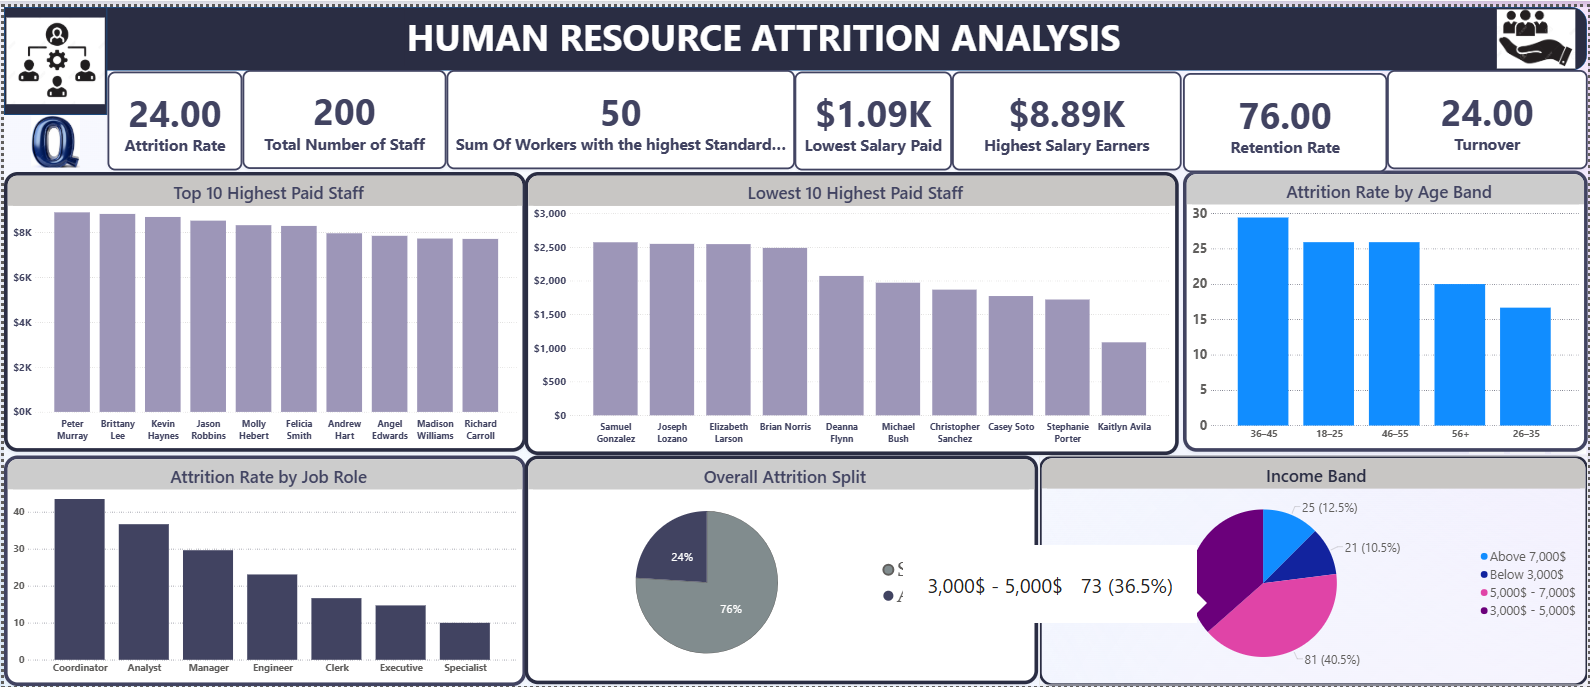

What the dashboard file says about the page in this screenshot:
{"tool":"powerbi","page":{"name":"Key Performance Metrics","canvas":[3500,1500],"ordinal":0},"visuals":[{"type":"shape","box":[173.9,0,3324.7,140.8],"z":0},{"type":"shape","box":[0,0,228,238.6],"z":1000},{"type":"image","box":[0,0,228,238.6],"z":2000},{"type":"textbox","box":[886,8.3,2128.2,124.2],"z":3000},{"type":"image","box":[3270.9,0,227.7,140.8],"z":4000},{"type":"card","fields":{"Values":["Sheet1.Lowest Salary Paid"]},"box":[1746.4,142.5,347.9,218.7],"z":5000},{"type":"card","fields":{"Values":["Sheet1.Highest Salary Paid"]},"box":[2094.3,142.5,507,218.7],"z":6000},{"type":"columnChart","title":"Attrition Rate by Job Role","fields":{"Category":["Sheet1.Job Role"],"Series":["Sheet1.Job Role"],"Y":["Sheet1.Attrition Rate"]},"box":[0,981.5,1154.5,519],"z":9000},{"type":"pieChart","title":"Overall Attrition Split","fields":{"Y":["Sheet1.Attrition_No_Count","Sheet1.Attrition_Yes_Count"]},"box":[1151,989.6,1134.5,505.1],"z":10000},{"type":"pieChart","title":"Income Band","fields":{"Y":["Sheet1.IncomeBand_High_Count","Sheet1.IncomeBand_Low_Count","Sheet1.IncomeBand_MediumHigh_Count","Sheet1.IncomeBand_MediumLow_Count"]},"box":[1155.2,364.4,1449.1,616.9],"z":11000},{"type":"card","fields":{"Values":["Sheet1.Workers with the highest Standard of Living"]},"box":[977.1,140.8,770.1,219.4],"z":12000},{"type":"columnChart","title":"Attrition Rate by Age Band","fields":{"Category":["Sheet1.AgeBand"],"Y":["Sheet1.Attrition Rate"]},"box":[2604.3,360.2,894.3,621.1],"z":13000},{"type":"card","fields":{"Values":["Sheet1.Turnover"]},"box":[3055.6,140.8,443,219.4],"z":14000},{"type":"card","fields":{"Values":["Sheet1.Retention Rate"]},"box":[2604.3,144.9,451.3,219.4],"z":15000},{"type":"image","box":[0,236,227.7,124.2],"z":16000},{"type":"pageNavigator","box":[229.5,144.8,748.5,215.4],"z":17000},{"type":"columnChart","title":"Attrition Rate by Distance","fields":{"Category":["Sheet1.Distance From Work"],"Y":["Sheet1.Attrition Rate"]},"box":[0,368.5,1155.2,621.1],"z":17001},{"type":"pieChart","title":"Attrition Rate by Overtime","fields":{"Y":["Sheet1.Attrition Rate"],"Category":["Sheet1.Over Time"]},"box":[2285.5,981.3,1213.1,517.6],"z":17002}]}

Visuals, with their boxes in screenshot pixels (x1, y1, x2, y2), scaled from the page's 3500x1500 canvas onto the 1590x687 screenshot:
shape: box(79, 0, 1589, 64)
shape: box(0, 0, 104, 109)
image: box(0, 0, 104, 109)
textbox: box(402, 4, 1369, 61)
image: box(1486, 0, 1589, 64)
card - Sheet1.Lowest Salary Paid: box(793, 65, 951, 165)
card - Sheet1.Highest Salary Paid: box(951, 65, 1182, 165)
"Attrition Rate by Job Role" columnChart: box(0, 450, 524, 686)
"Overall Attrition Split" pieChart: box(523, 453, 1038, 685)
"Income Band" pieChart: box(525, 167, 1183, 449)
card - Sheet1.Workers with the highest Standard of Living: box(444, 64, 794, 165)
"Attrition Rate by Age Band" columnChart: box(1183, 165, 1589, 449)
card - Sheet1.Turnover: box(1388, 64, 1589, 165)
card - Sheet1.Retention Rate: box(1183, 66, 1388, 167)
image: box(0, 108, 103, 165)
pageNavigator: box(104, 66, 444, 165)
"Attrition Rate by Distance" columnChart: box(0, 169, 525, 453)
"Attrition Rate by Overtime" pieChart: box(1038, 449, 1589, 686)
